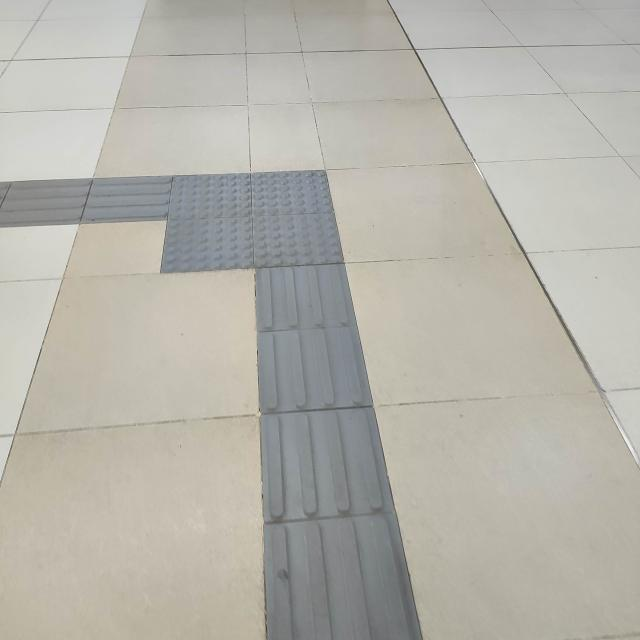kiri: (50, 136, 372, 312)
